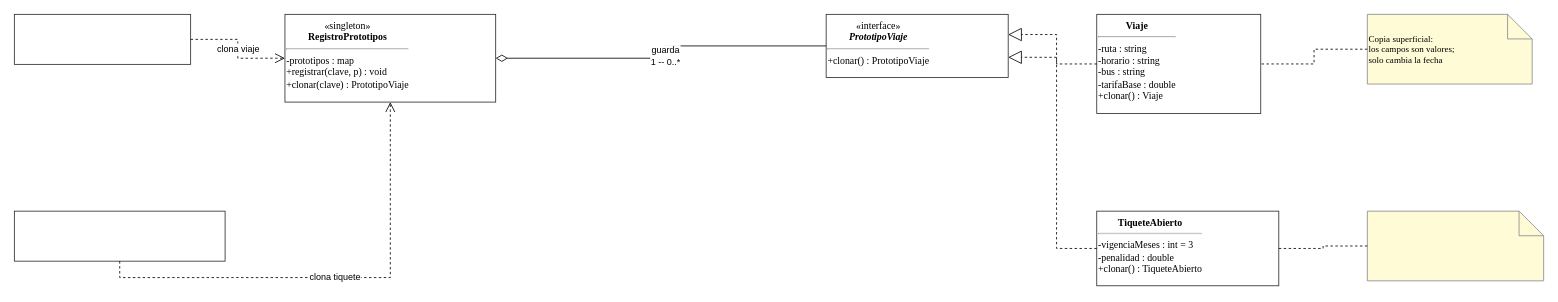
The diagram is 1558 pixels wide and 302 high, and some of its shapes have lost their labels. Each missing label, with the box of its shape:
Copia superficial: conserva pago y vigencia; solo cambia el viaje: (1367, 210, 1544, 281)
JefeOperaciones +programarViaje() : Viaje: (14, 14, 191, 64)
Taquillero +reprogramar() : TiqueteAbierto: (14, 210, 225, 261)
